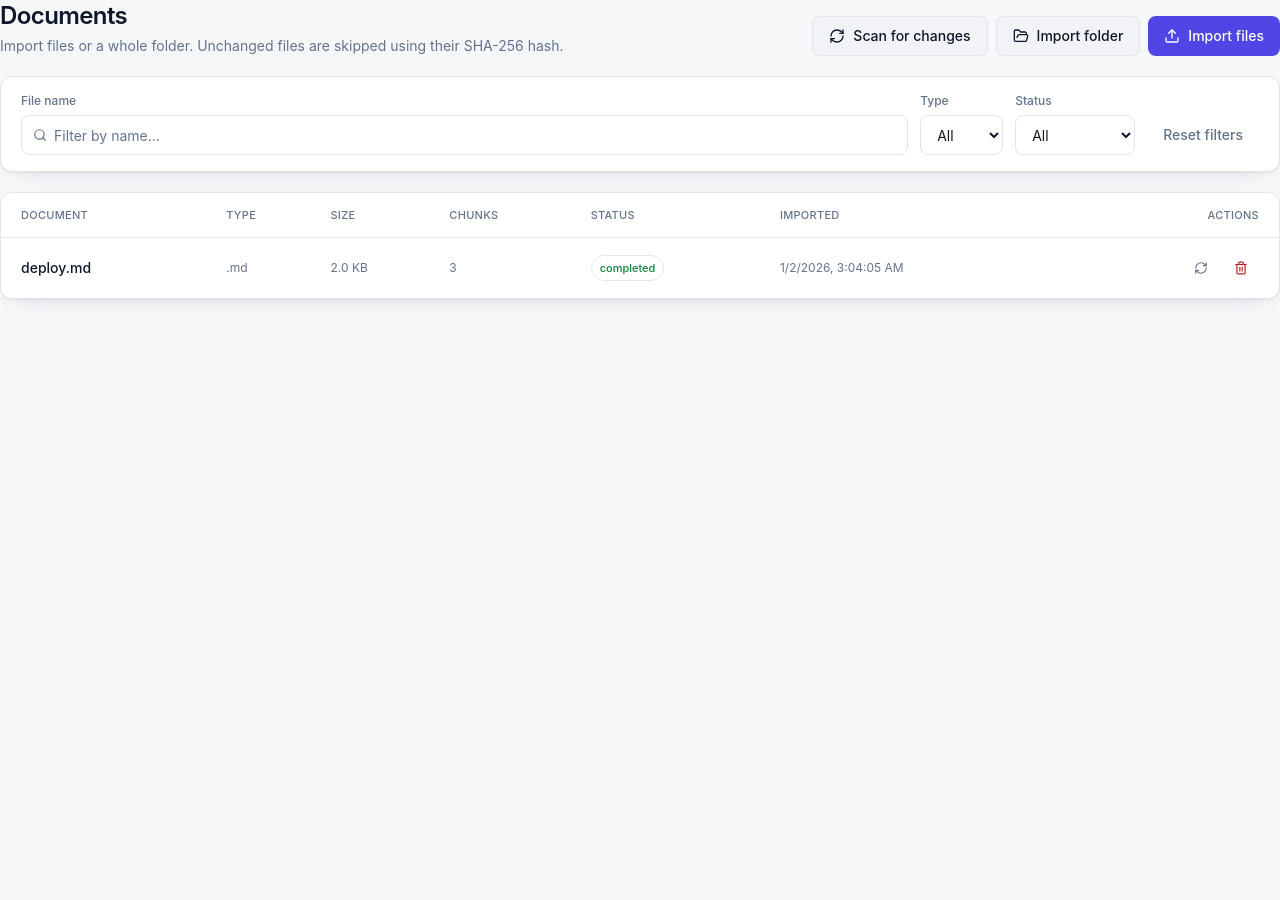
Test: Documents page › shows document details and chunks
Click the button "deploy.md".
click(56, 268)  # box [21,258,91,278]
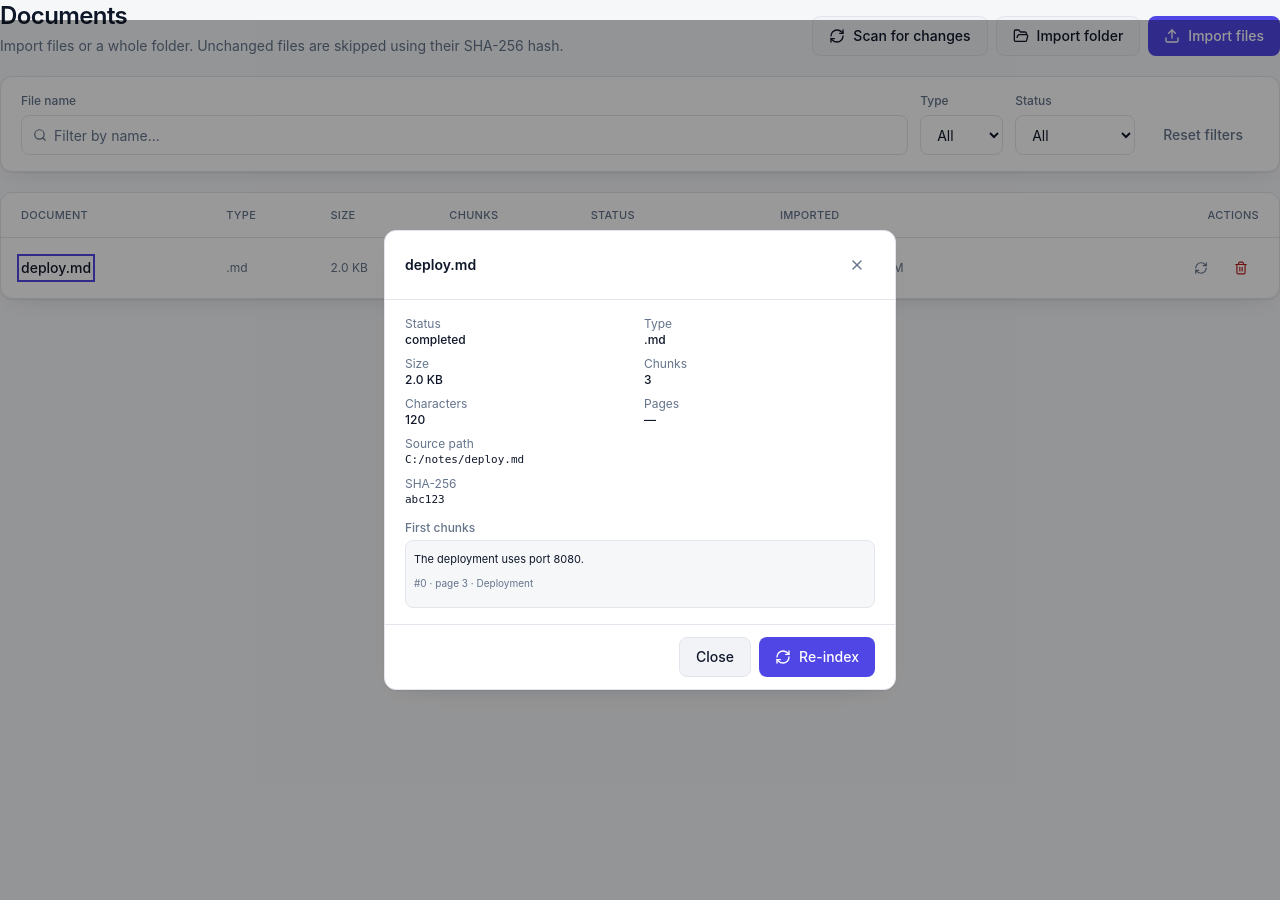
Expected: the text "The deployment uses port 8080." is shown, [414,552,584,566]
Expected: the text "#0 · page 3 · Deployment" is shown, [414,577,533,589]
Expected: the text "abc123" is shown, [405,493,445,506]
